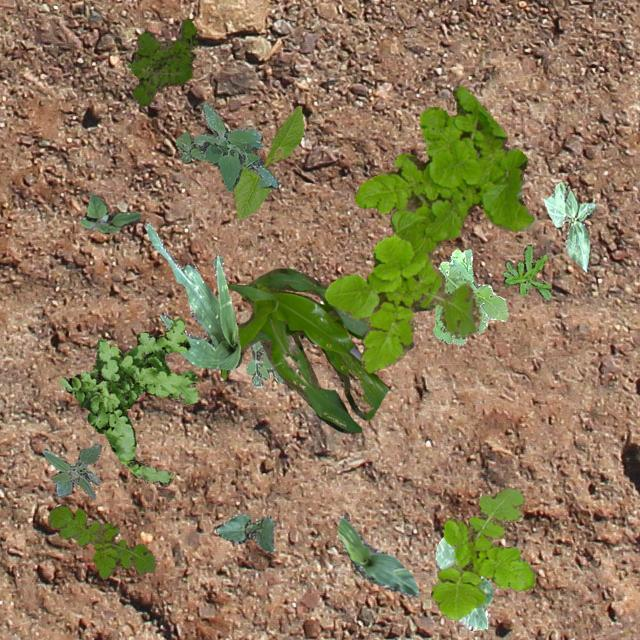crop: (220, 268, 434, 432), (144, 220, 240, 368), (232, 104, 302, 218), (338, 514, 418, 598), (434, 536, 492, 630), (542, 180, 594, 272), (216, 514, 274, 552)
weed: (323, 84, 534, 372), (60, 316, 198, 486), (429, 486, 534, 618), (175, 101, 278, 190), (46, 503, 154, 578), (432, 248, 508, 344), (127, 18, 196, 104), (41, 442, 100, 498), (502, 244, 550, 298), (78, 194, 140, 232), (244, 339, 284, 386)
